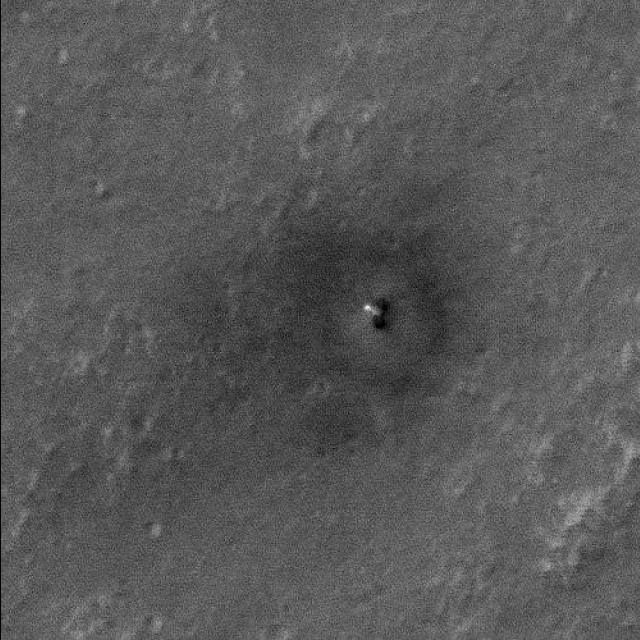crater: (349, 270, 418, 358), (617, 222, 640, 290), (121, 406, 158, 448), (612, 137, 640, 187), (614, 86, 640, 132), (203, 330, 233, 368), (42, 39, 72, 75), (138, 513, 168, 547), (76, 170, 110, 200), (257, 612, 293, 640), (140, 604, 168, 640), (528, 134, 556, 168), (621, 475, 640, 517), (306, 376, 334, 404), (164, 440, 190, 470), (622, 23, 640, 65), (620, 443, 640, 480), (1, 0, 34, 22), (622, 322, 640, 362), (502, 208, 528, 235), (598, 109, 621, 135), (124, 0, 161, 15), (470, 0, 497, 20), (625, 469, 640, 505), (141, 0, 176, 15), (307, 440, 330, 462), (616, 0, 640, 20), (171, 0, 201, 15), (158, 0, 182, 18), (626, 71, 640, 101), (96, 0, 123, 14), (621, 0, 640, 19), (422, 0, 446, 14), (628, 166, 640, 194), (628, 467, 640, 493), (219, 0, 241, 13), (264, 0, 286, 12), (282, 0, 304, 12), (321, 0, 343, 12), (109, 0, 129, 12), (284, 0, 304, 10), (631, 406, 640, 428), (302, 0, 321, 10)
